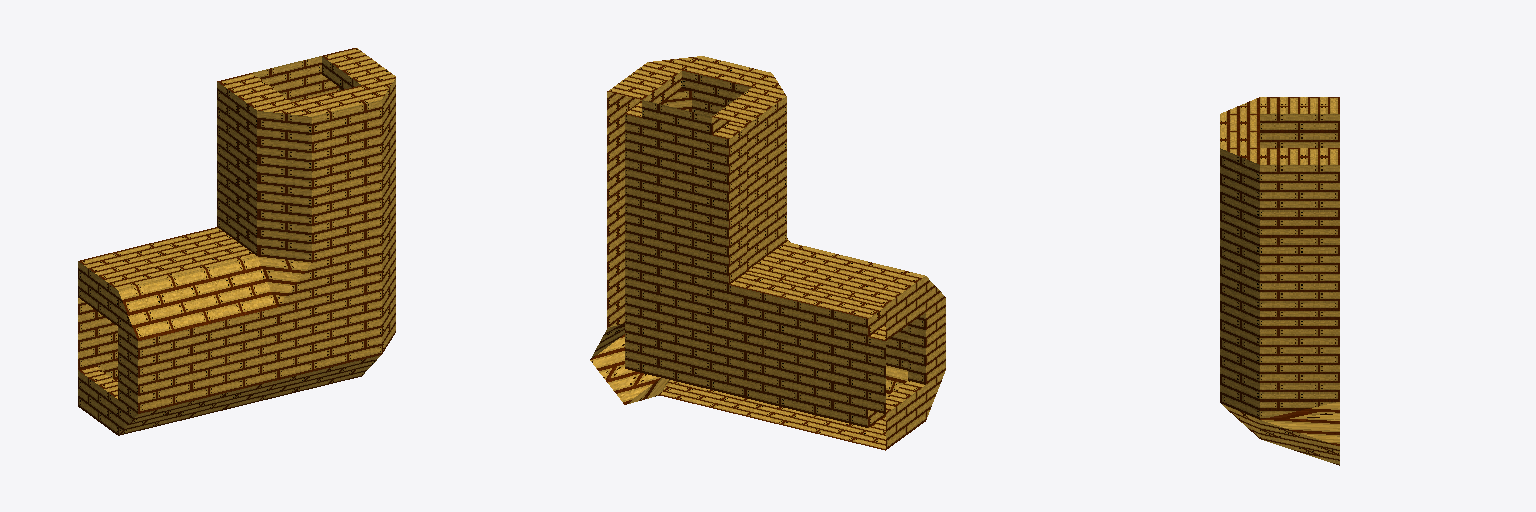
3 views of the same model, side by side, from view 1: azimuth 30°, elevation 25°; view 2: azimuth 150°, elevation 25°; view 3: azimuth 270°, elevation 25° (orthographic).
Size of the model in its own units: 544 by 544 by 192.
Materials: 1 (1 with a texture image).